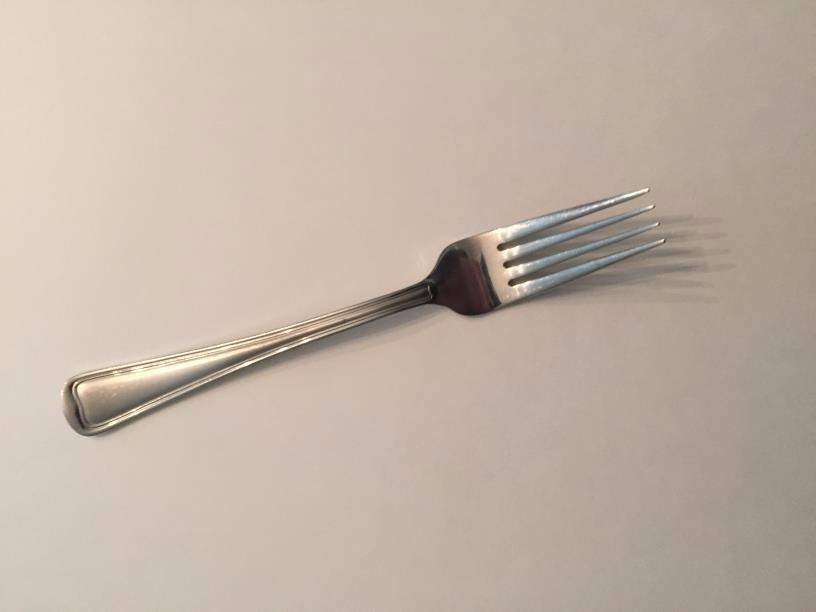fork: (58, 179, 682, 439)
